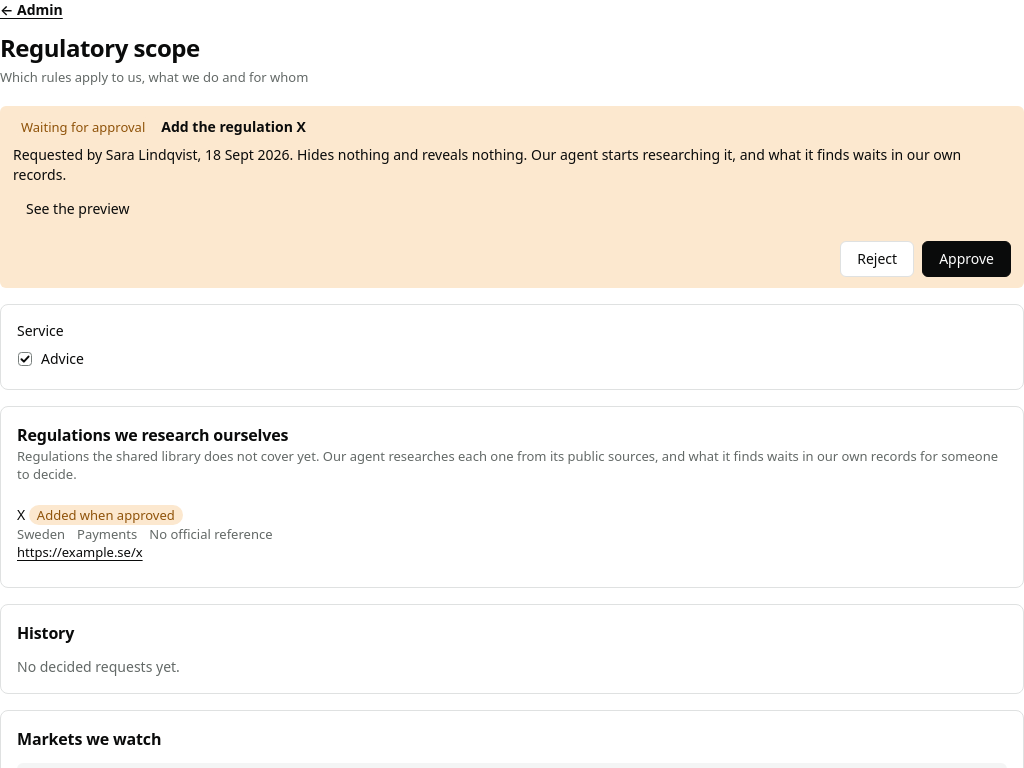
Test case: scope items: deciding › shows the four-eyes refusal from the server's code in the approve dialog
This screenshot has width=1024, height=768.
Click the button "Approve" at (967, 259), box left=922, top=241, right=1011, bottom=277
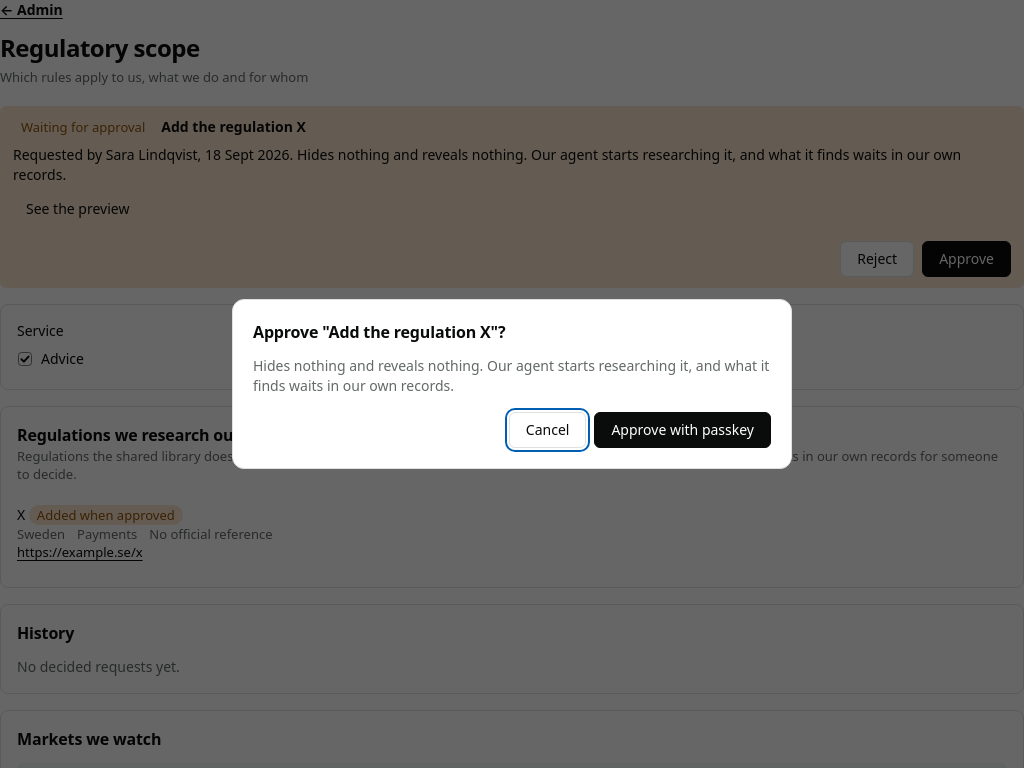
Click the button "Approve with passkey" at (683, 430), box left=594, top=412, right=771, bottom=448
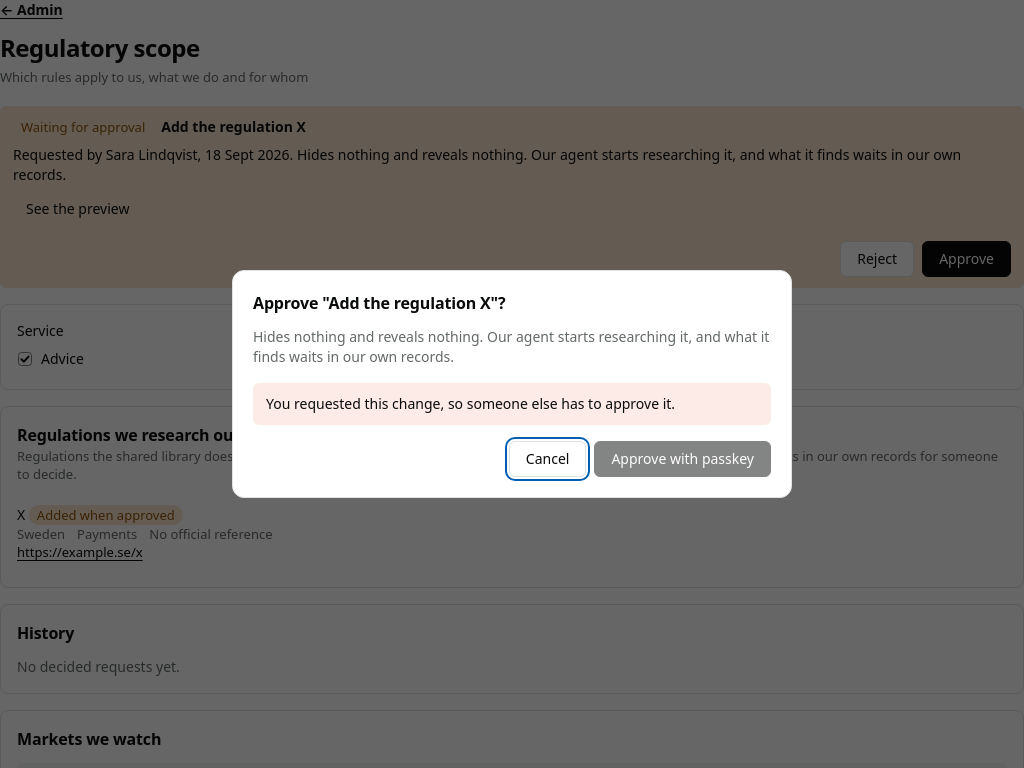
Expected: the text "You requested this change, so someone else has to approve it." is shown, left=253, top=383, right=771, bottom=425
Expected: the button "Approve with passkey" is disabled, left=594, top=441, right=771, bottom=477
